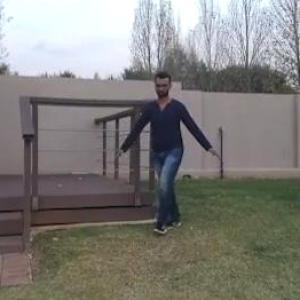land: (110, 58, 224, 255)
